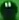black: (0, 0, 19, 20)
